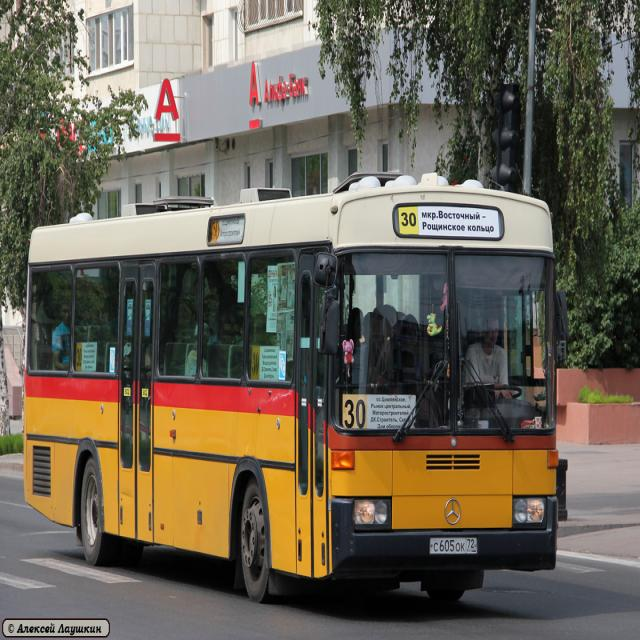number-of-bus: (344, 396, 369, 433), (400, 208, 421, 238)
